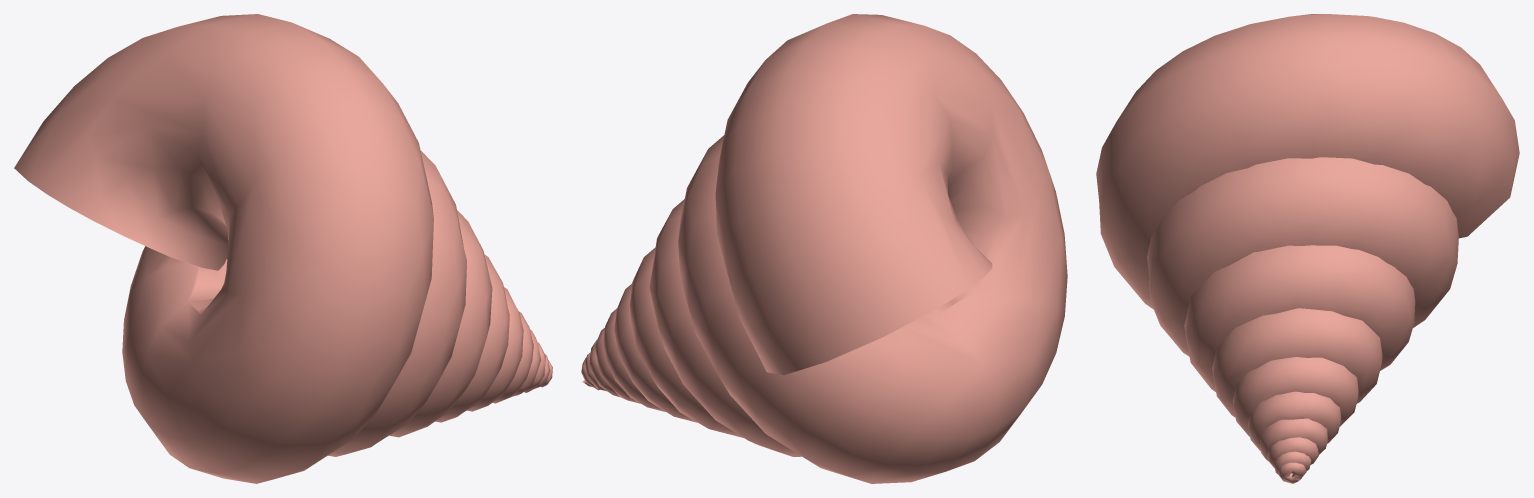
File: shell1 1.fbx
The picture shows the model from 3 angles, left to right: view 1: azimuth 30°, elevation 25°; view 2: azimuth 150°, elevation 25°; view 3: azimuth 270°, elevation 25°; orthographic projection. The views are drawn at different scales.
Visible parts, largest first — view 1: Shell1; view 2: Shell1; view 3: Shell1.
Part boxes in pixels (left/top/right/bottom): Shell1: left=14, top=14, right=552, bottom=483; Shell1: left=581, top=14, right=1067, bottom=483; Shell1: left=1096, top=14, right=1519, bottom=483.
Size of the model in its own units: 17.49 by 15.26 by 16.53.
